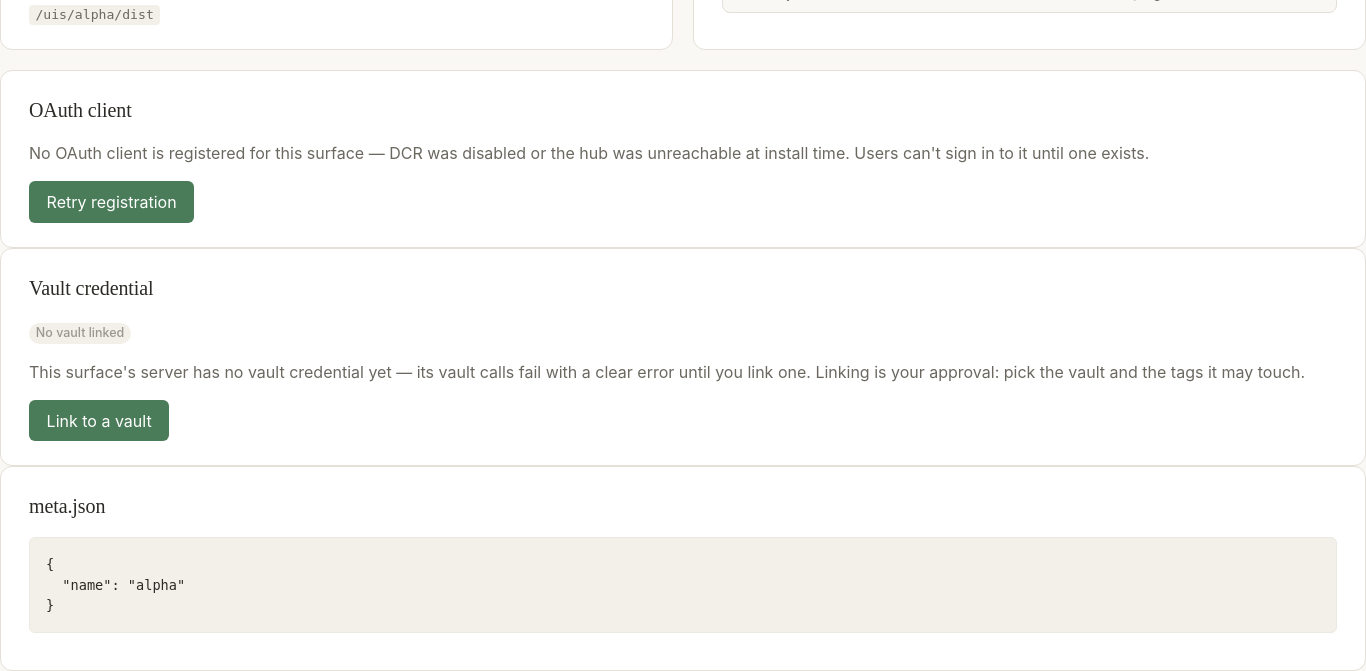
Test: UiInfo — credential link flow › link flow POSTs the exact H4 credential body; auto-bound connection needs no config PATCH
The width and height of the screenshot is (1366, 671).
(page scrolled)
Check: the text "No vault linked" is shown, box [29, 323, 131, 344]
Click the button "Link to a vault".
click(99, 421)  # box [29, 400, 169, 441]
(page scrolled)
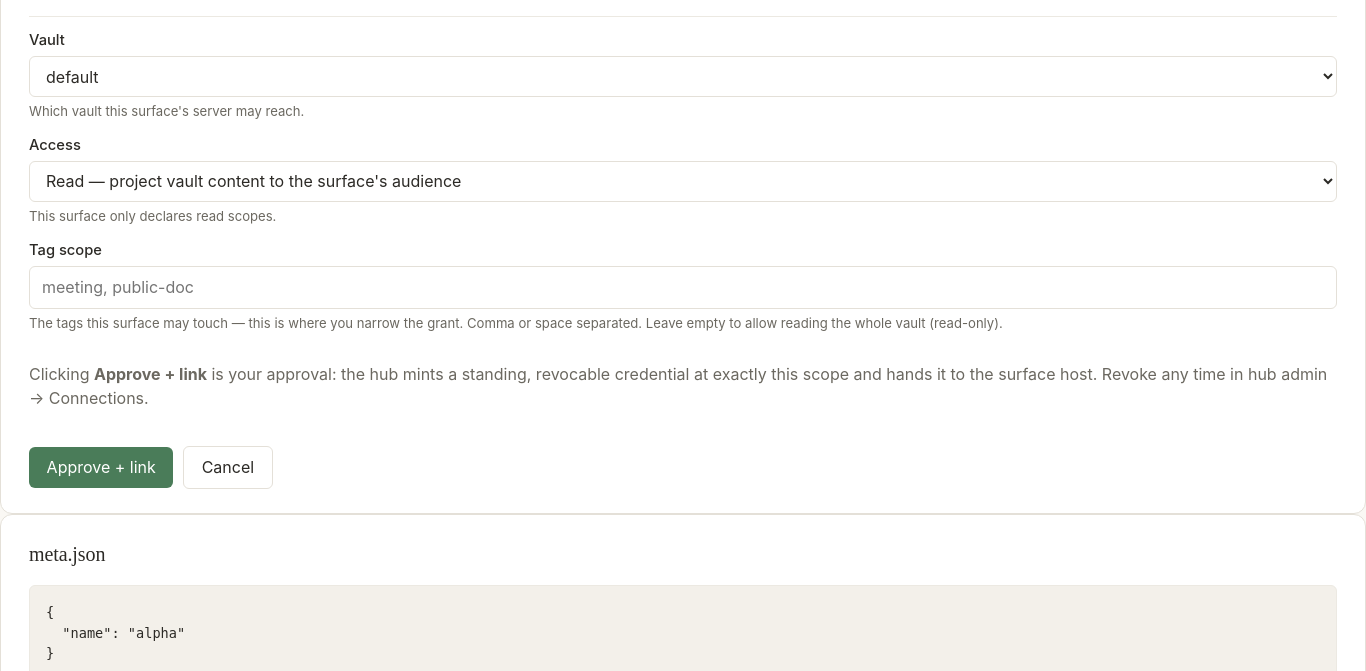
Type "meeting" into the field with placeholder "meeting, public-doc".
click(683, 287); type("meeting")  # box [29, 266, 1337, 309]
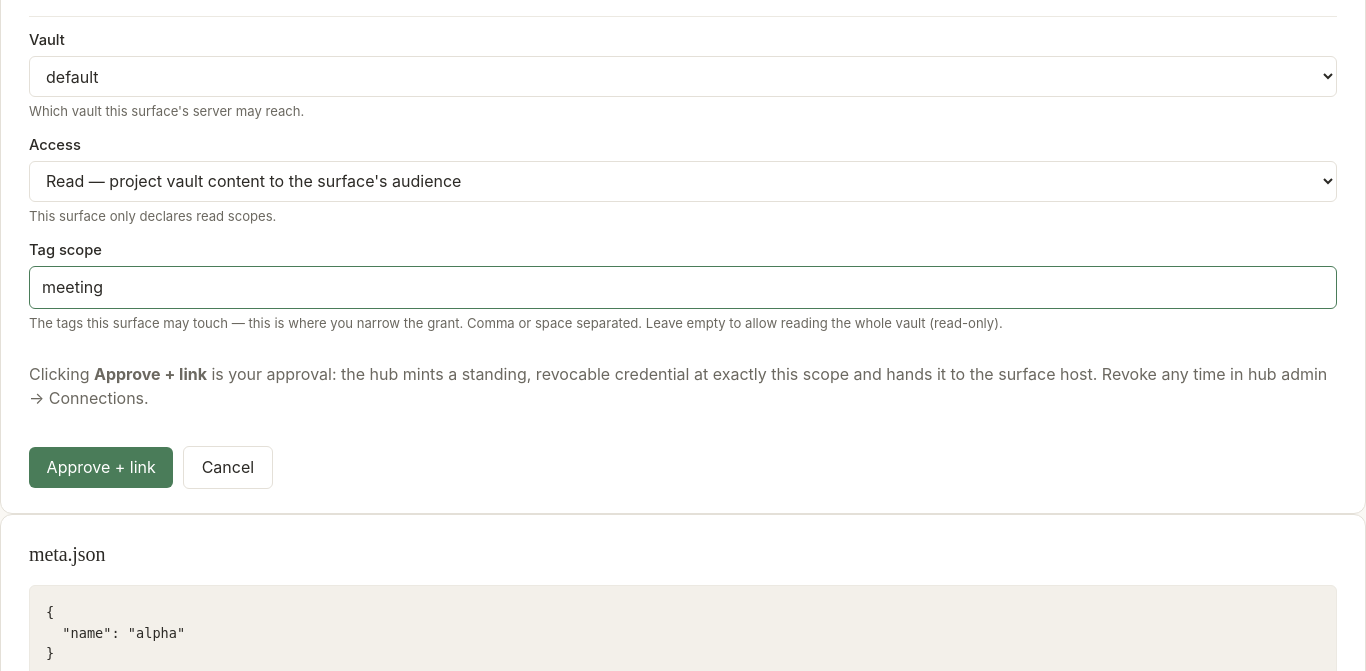
Click the button "Approve + link".
click(101, 468)  # box [29, 447, 173, 488]
(page scrolled)
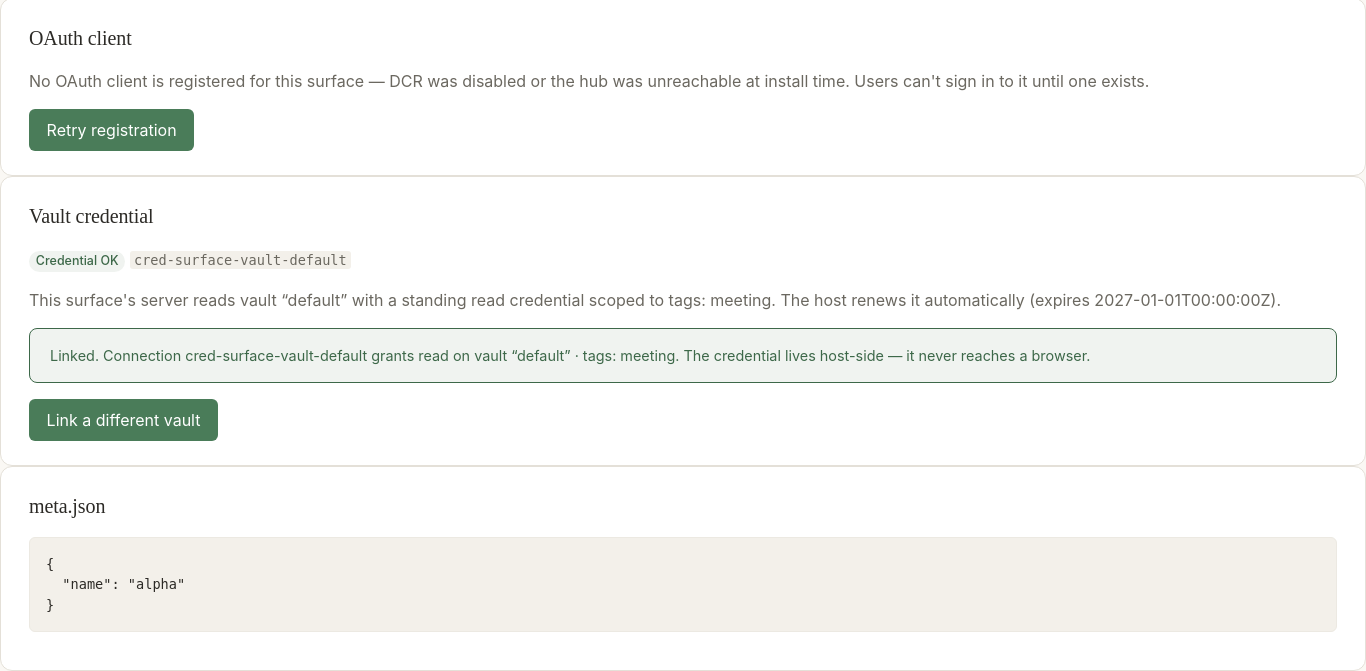
Check: the text "Linked. Connection cred-surface-vault-default" is shown, box [50, 347, 1090, 364]
